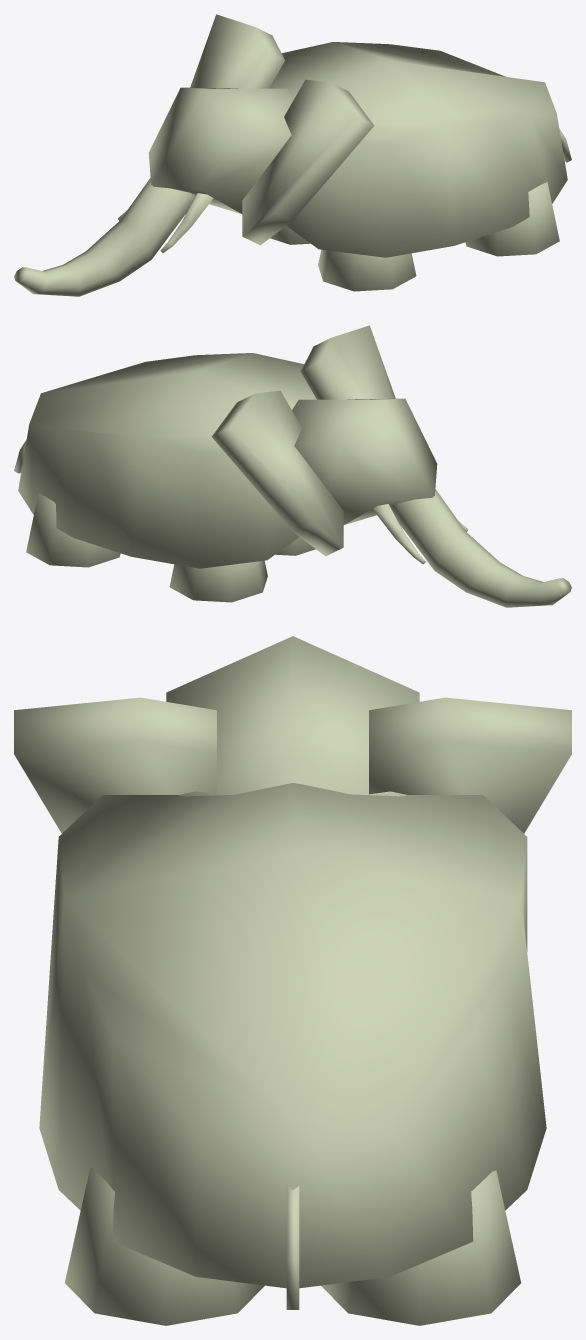
Rendered from elephant.dae.
3 renders of one model, top to bottom at view 1: azimuth 30°, elevation 25°; view 2: azimuth 150°, elevation 25°; view 3: azimuth 270°, elevation 25°, orthographic. The views are drawn at different scales.
Visible parts, largest first — view 1: body-0, head-0, ear_left-0, traba-0, ear_right-0, leg4-0, leg2-0, kiel_l-0, leg3-0; view 2: body-0, head-0, ear_right-0, traba-0, ear_left-0, leg3-0, leg1-0, kiel_l_copy12-0, leg4-0; view 3: body-0, head-0, ear_right-0, ear_left-0, leg2-0, leg1-0, tail-0.
Boxes of the visible parts, bbox=[...] form: body-0: bbox=[269, 42, 567, 257]; head-0: bbox=[148, 87, 293, 213]; ear_left-0: bbox=[242, 79, 374, 245]; traba-0: bbox=[14, 178, 195, 296]; ear_right-0: bbox=[190, 14, 284, 88]; leg4-0: bbox=[318, 249, 416, 291]; leg2-0: bbox=[465, 182, 559, 256]; kiel_l-0: bbox=[160, 193, 213, 253]; leg3-0: bbox=[270, 226, 310, 244]; body-0: bbox=[18, 353, 316, 568]; head-0: bbox=[292, 398, 437, 524]; ear_right-0: bbox=[211, 390, 343, 556]; traba-0: bbox=[390, 489, 571, 607]; ear_left-0: bbox=[301, 325, 395, 399]; leg3-0: bbox=[169, 560, 267, 602]; leg1-0: bbox=[26, 493, 120, 567]; kiel_l_copy12-0: bbox=[372, 504, 425, 564]; leg4-0: bbox=[275, 537, 315, 555]; body-0: bbox=[39, 783, 546, 1288]; head-0: bbox=[166, 636, 419, 796]; ear_right-0: bbox=[369, 697, 571, 833]; ear_left-0: bbox=[14, 697, 216, 833]; leg2-0: bbox=[65, 1167, 264, 1325]; leg1-0: bbox=[321, 1170, 520, 1325]; tail-0: bbox=[286, 1185, 299, 1309].
Bounding box in the file's own units: 5.03 × 1.76 × 2.2.
